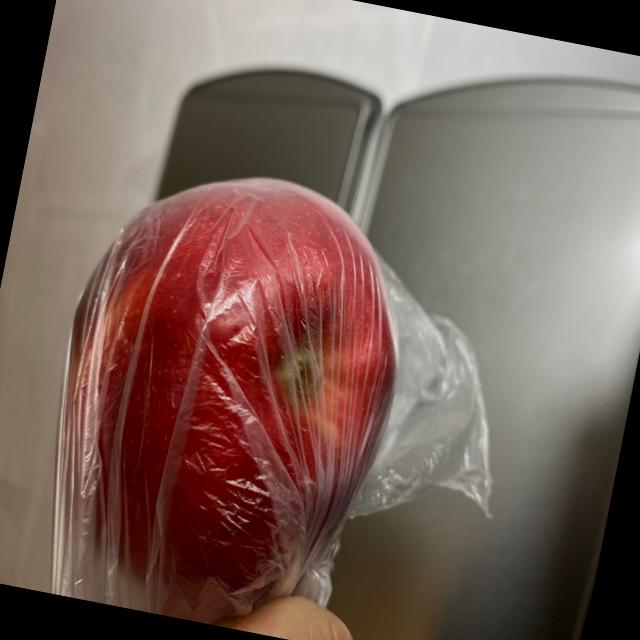apple: (18, 135, 436, 626)
